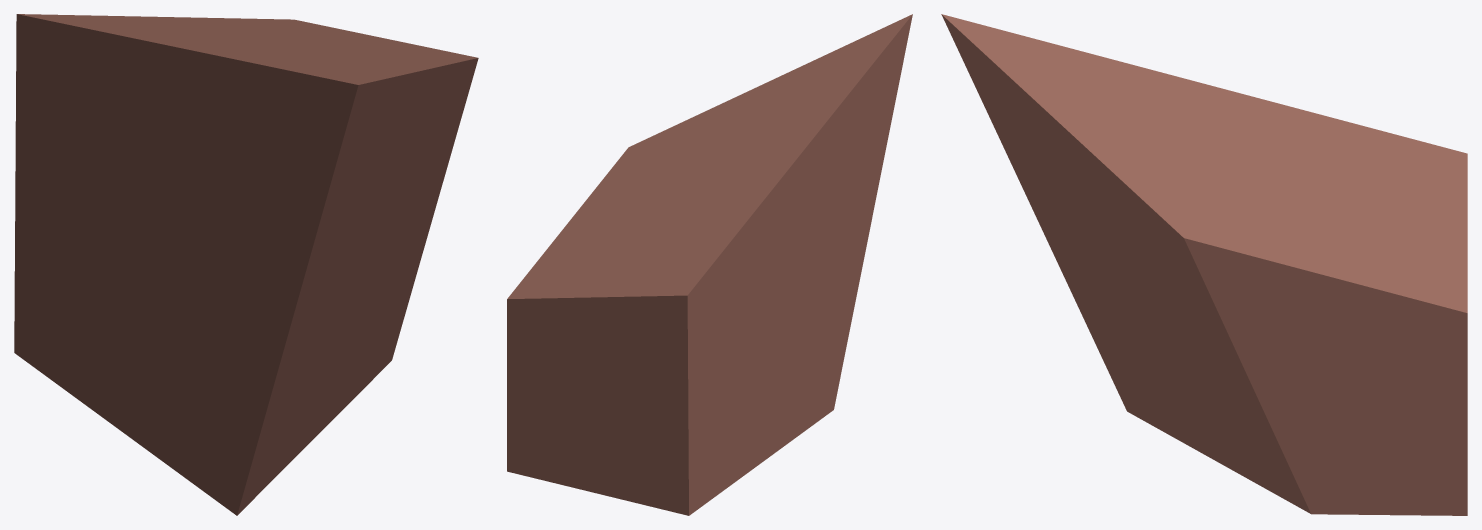
Rendered from T_MurDetruit_7.7.fbx.
3 renders of one model, left to right at view 1: azimuth 30°, elevation 25°; view 2: azimuth 150°, elevation 25°; view 3: azimuth 270°, elevation 25°, orthographic. The views are drawn at different scales.
Visible parts, largest first — view 1: T_MurDetruit_7.7; view 2: T_MurDetruit_7.7; view 3: T_MurDetruit_7.7.
Boxes of the visible parts, left/top/right/bottom form: T_MurDetruit_7.7: left=14, top=14, right=478, bottom=515; T_MurDetruit_7.7: left=507, top=14, right=912, bottom=515; T_MurDetruit_7.7: left=941, top=14, right=1467, bottom=515.
Bounding box in the file's own units: 13.48 × 23.92 × 28.71.
